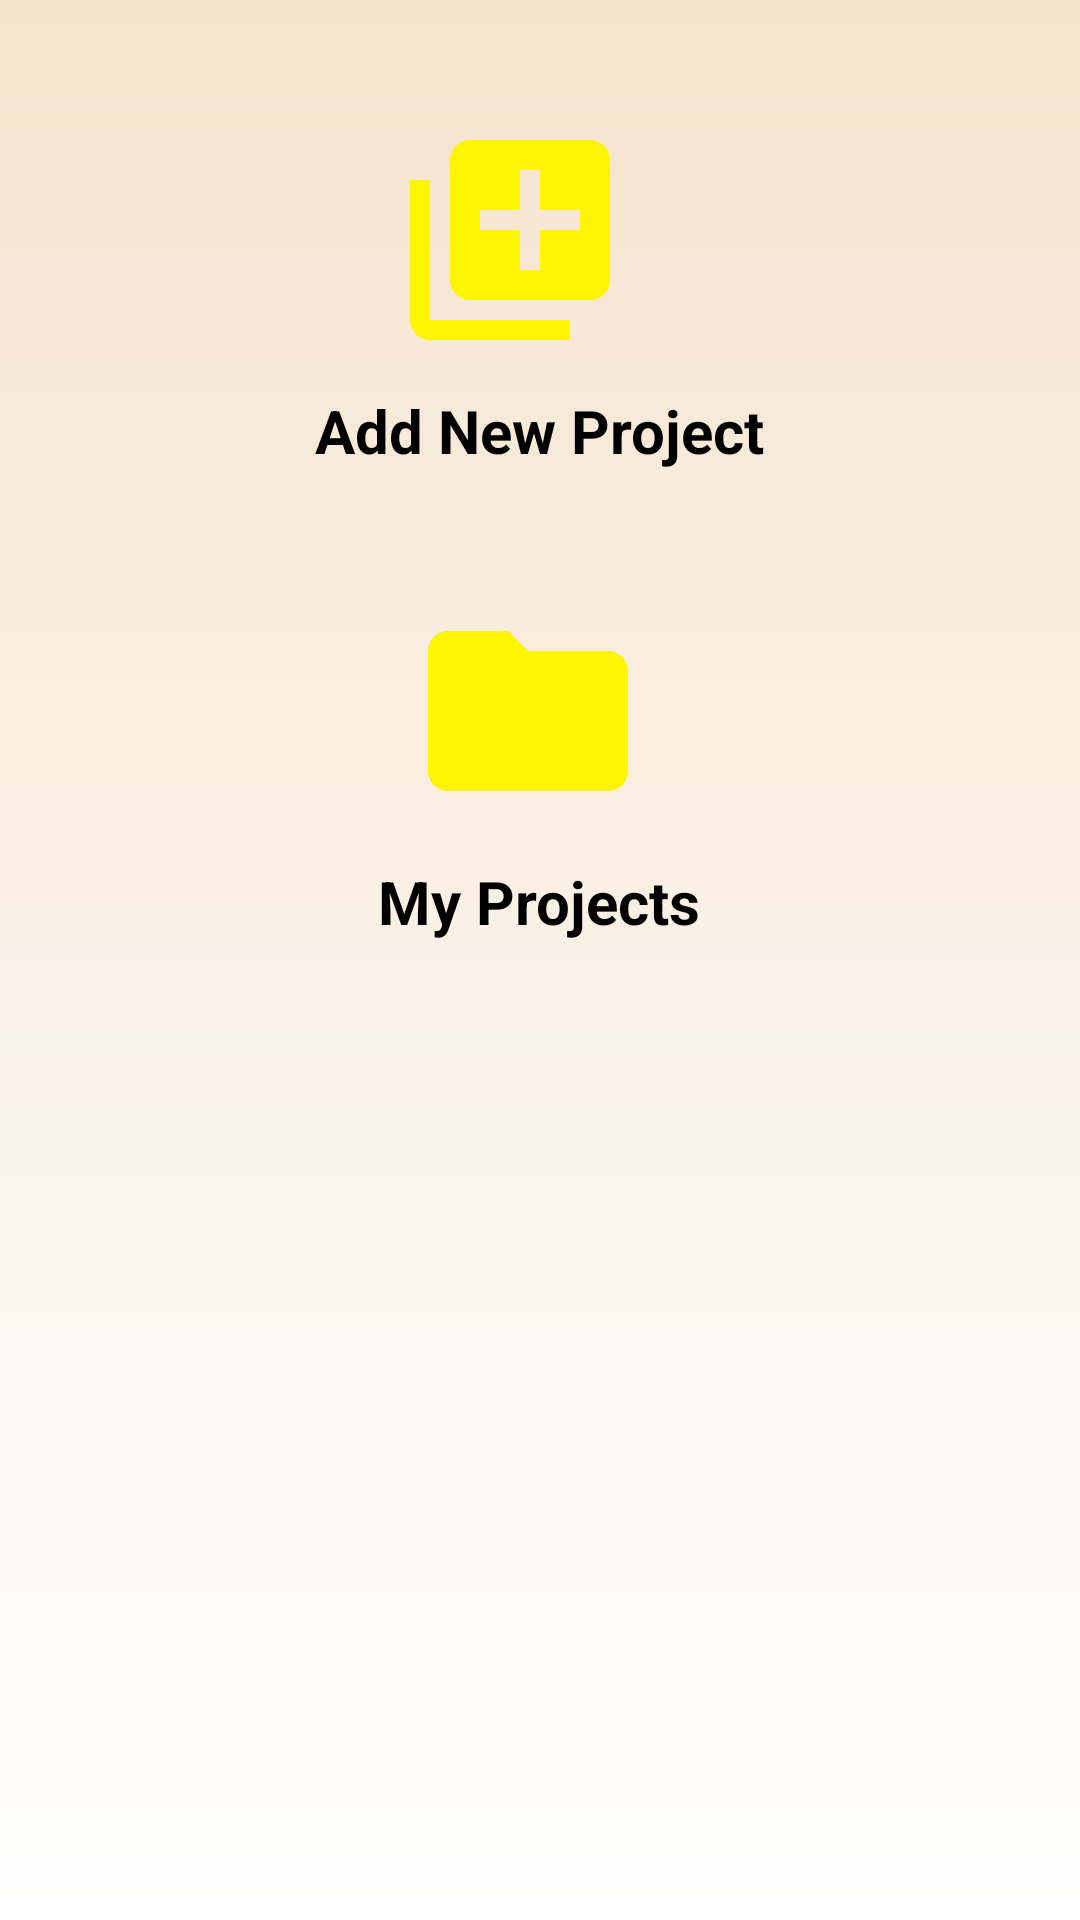

Locate icon controls on the screen. Image size 1080px x 1920px, boxes as (x1, y1, x2, y2).
library add: (410, 140, 610, 340)
